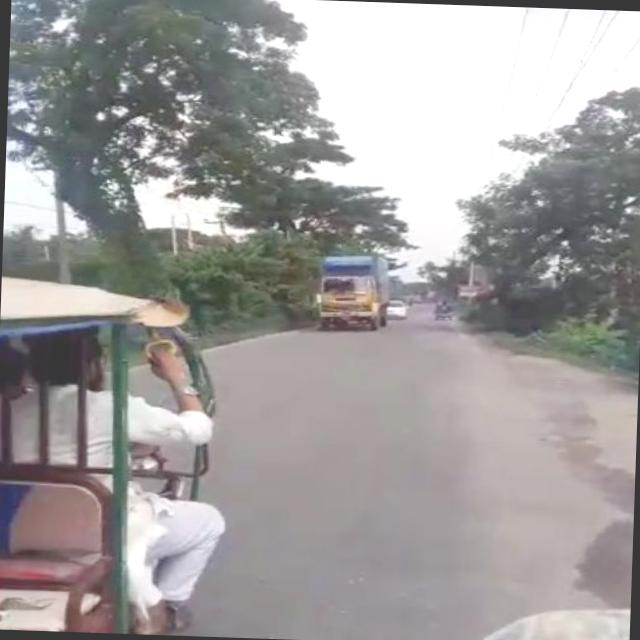car: (394, 296, 414, 318)
motorcycle: (0, 273, 243, 632)
truck: (318, 249, 392, 328)
